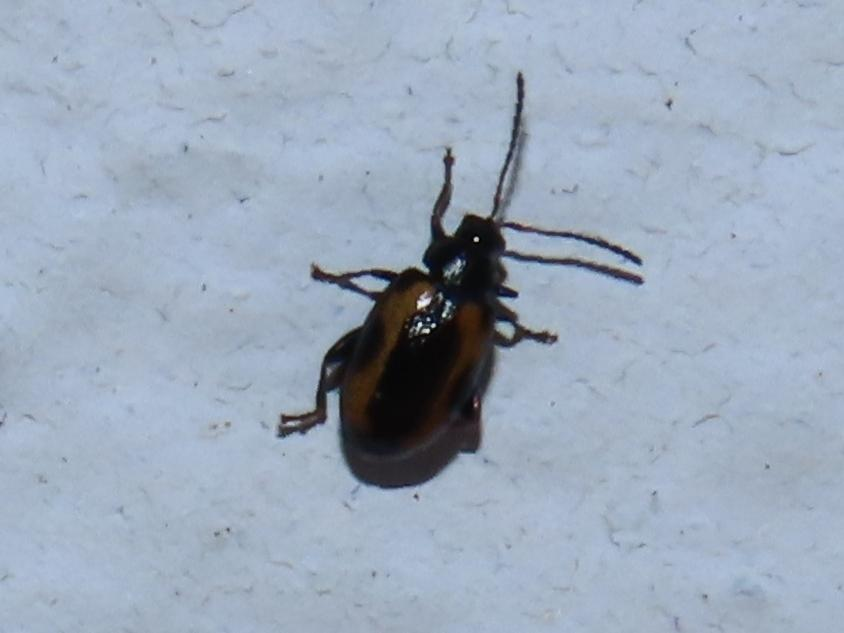flea_beetle: (219, 30, 723, 538)
